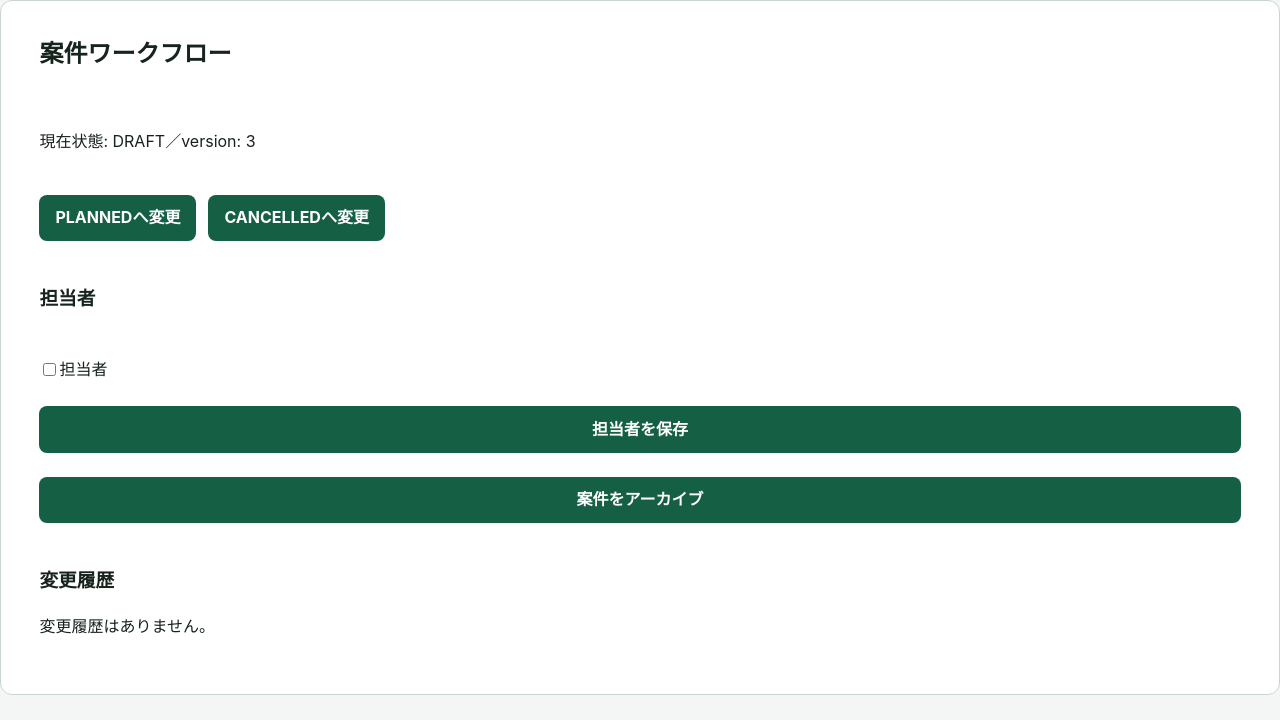
uses expected version and disables controls while a transition is pending
Step 1. Click the button "PLANNEDへ変更" → (118, 218), box [39,195,196,241]
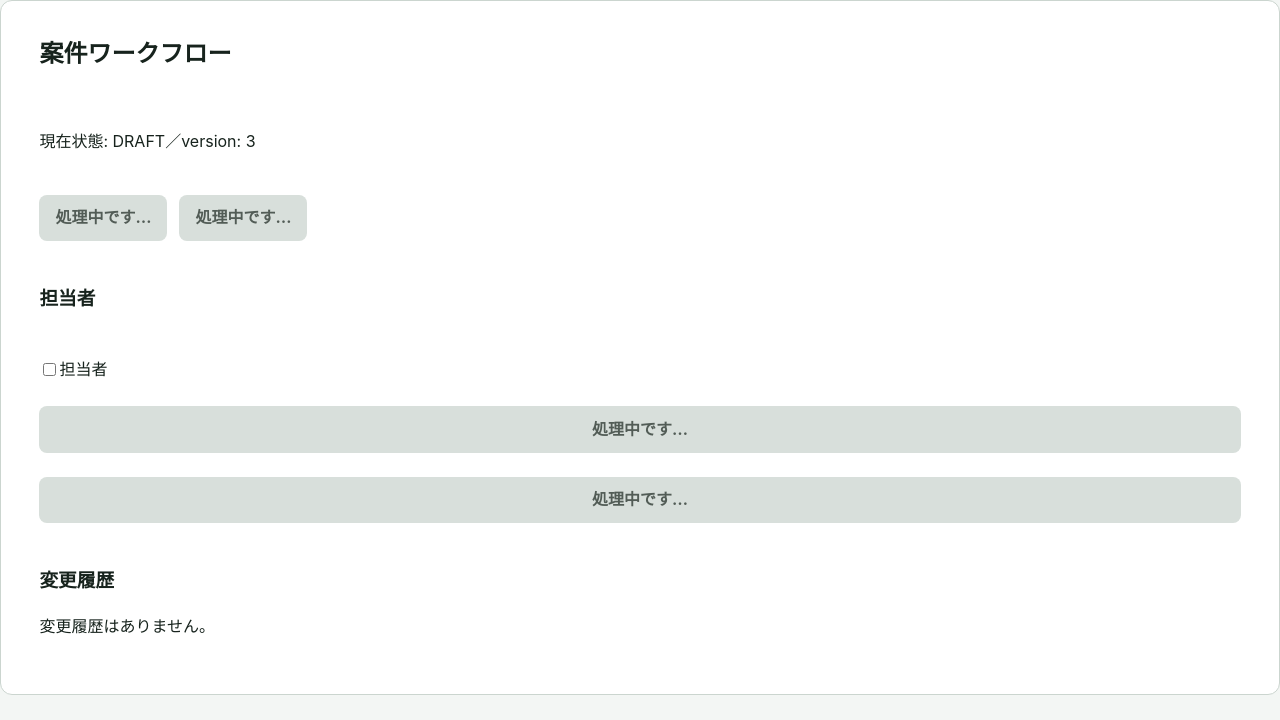
Check: the 1st button "処理中です…" is disabled, box [39,195,167,241]
